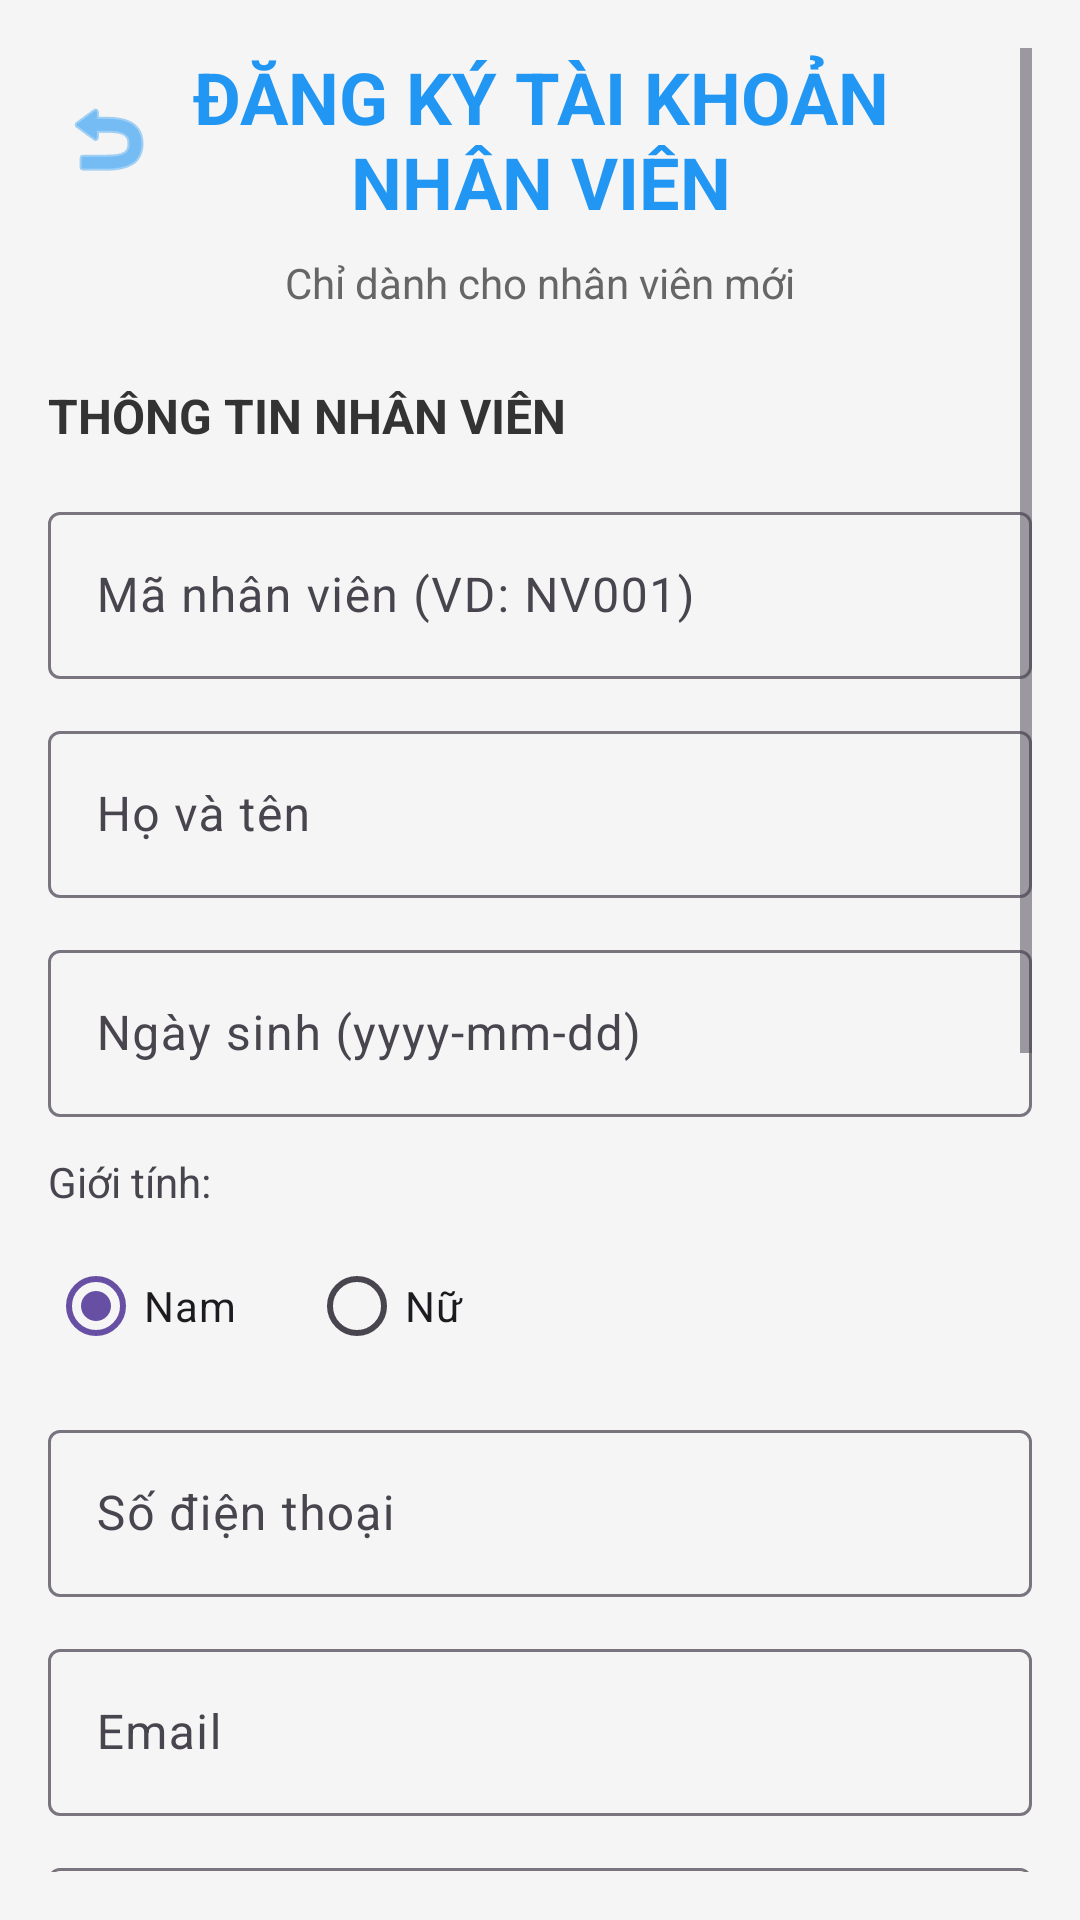

Screen size 1080×1920. Icon name, then its box in pixels as detection(x1, y1, x2, y2):
revert: detection(75, 108, 144, 171)
